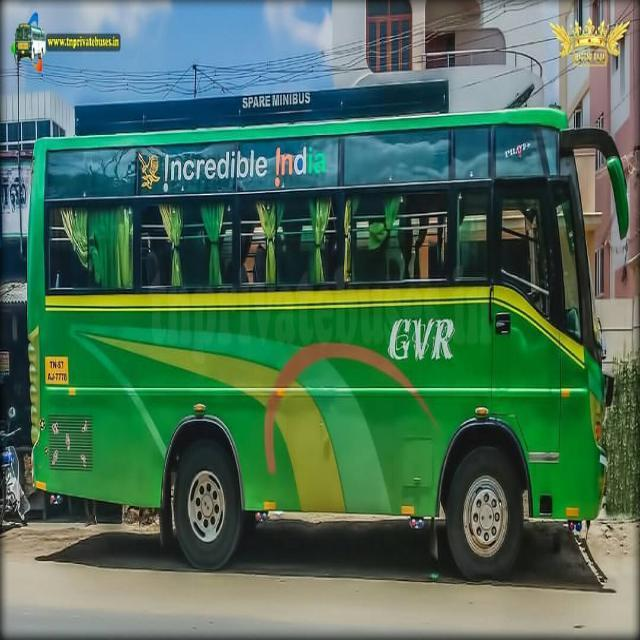Bus: (24, 86, 630, 586)
